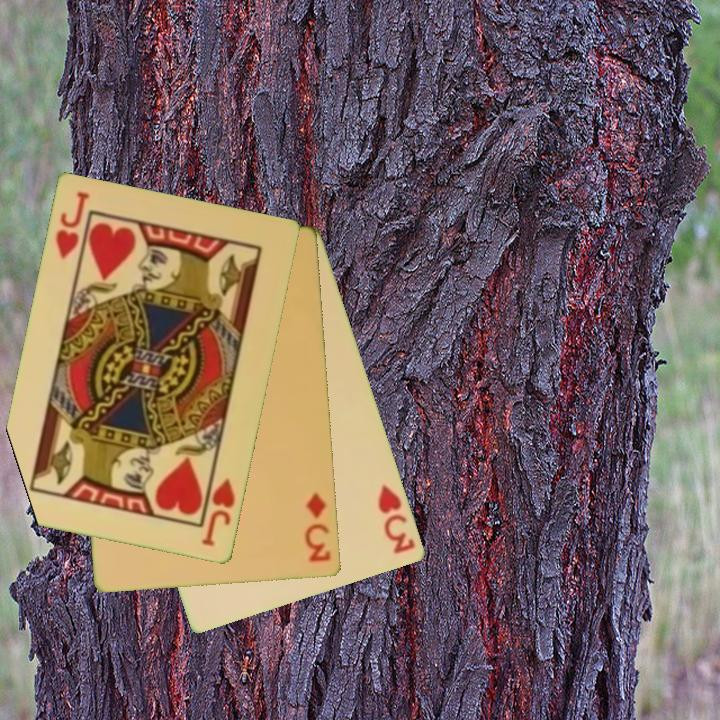3d: (302, 489, 334, 565)
3h: (375, 481, 419, 557)
Jh: (198, 475, 239, 550), (52, 188, 93, 263)
